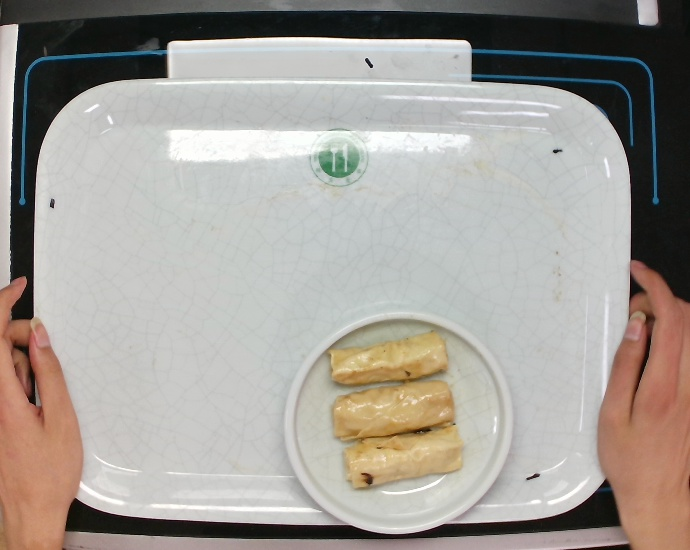JYsf-Xiao_Yuan_Pan: (275, 308, 518, 550)
